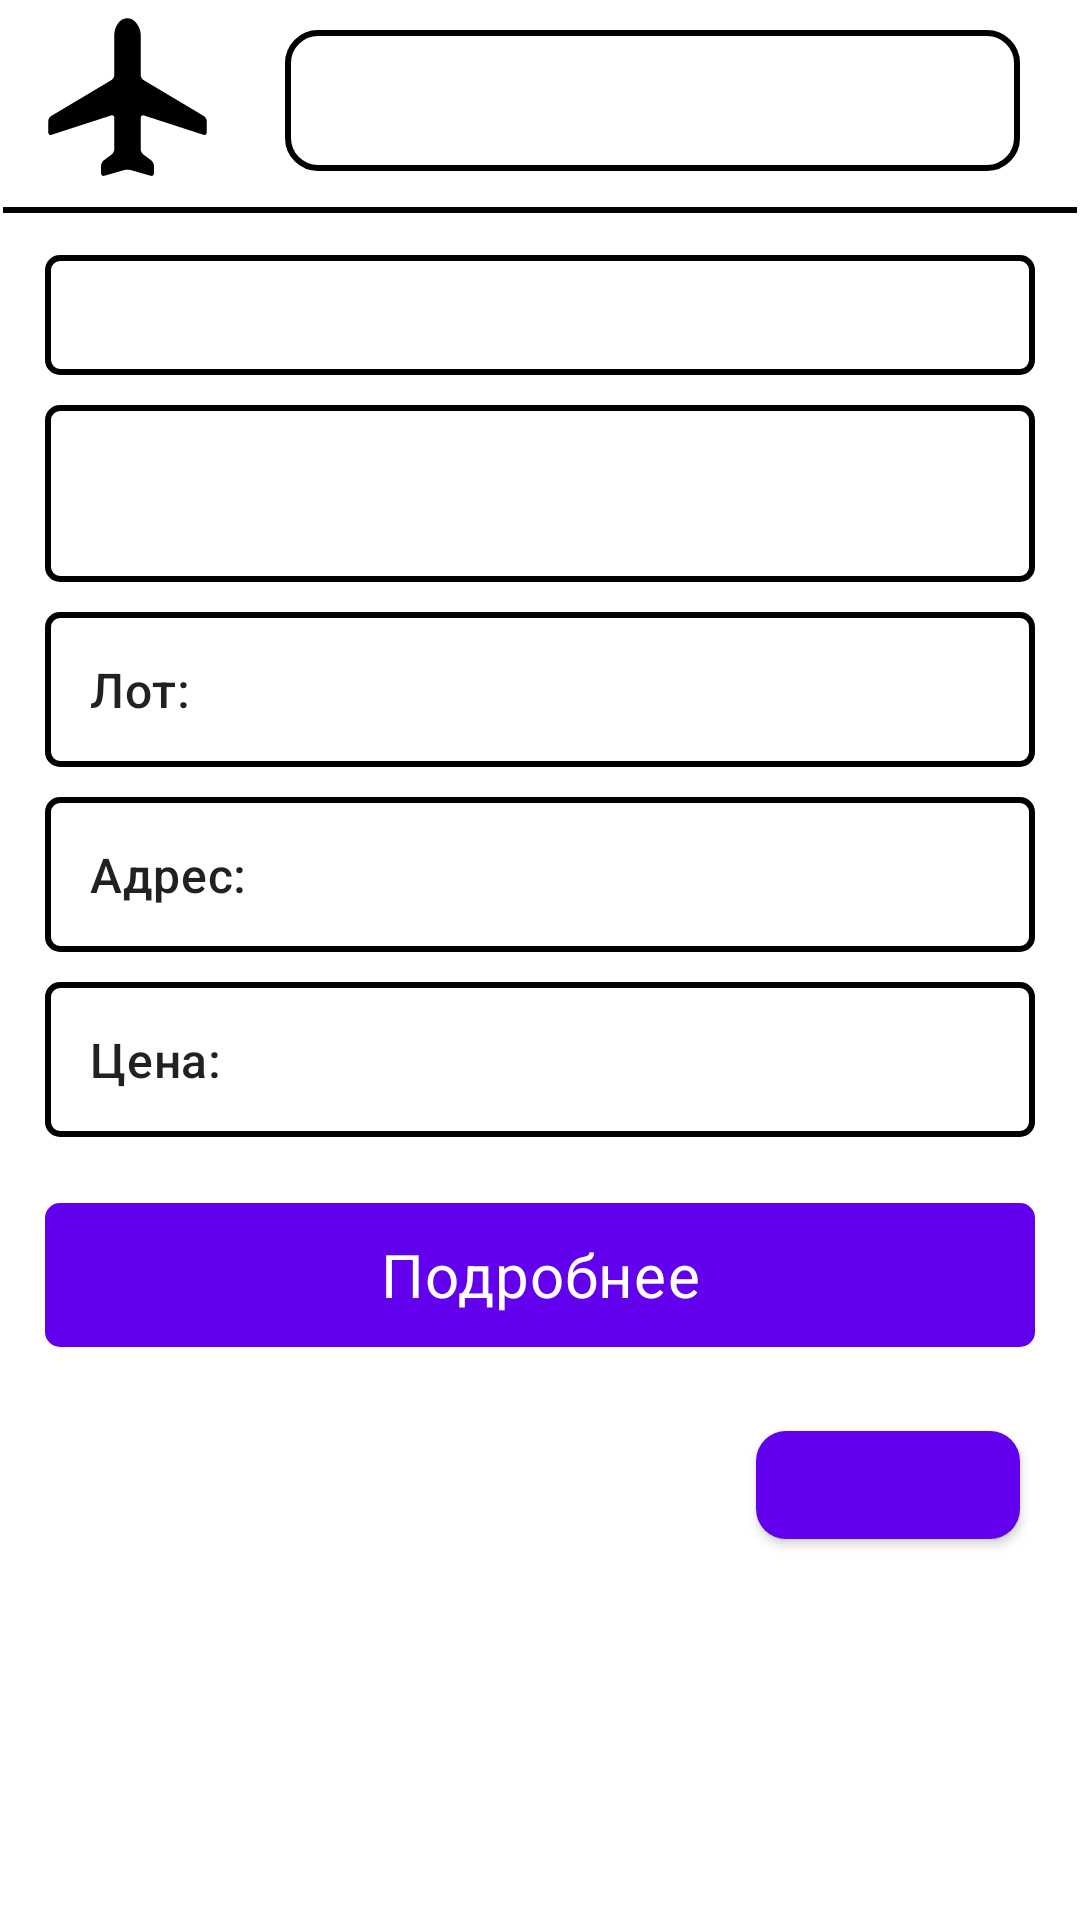

Locate icon controls on the screen. Image size 1080×1920, boxes as (x1, y1, x2, y2).
airport: (48, 18, 207, 176)
